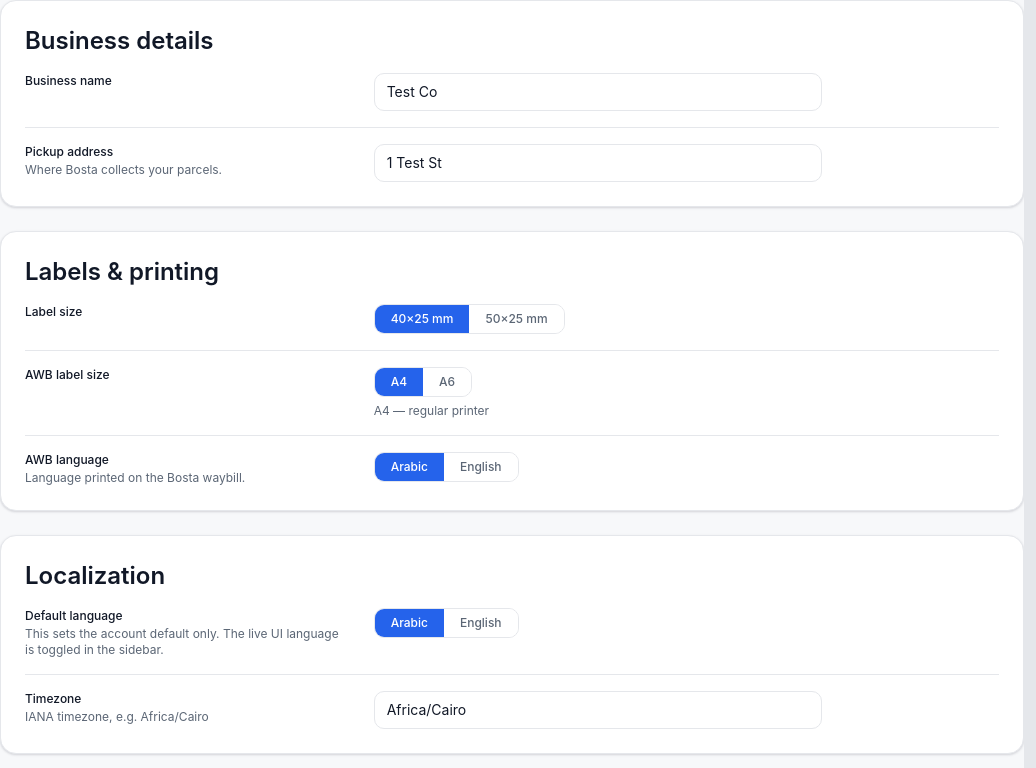
it: BusinessTab — Save fan-out › bt3 — awb leg rejects while tenant leg succeeds: independent per-section outcomes
The width and height of the screenshot is (1036, 768).
Replace the text in the field named "Business name" in the row of "Business name" with "Renamed Co" at (598, 92), box [374,73,822,111]
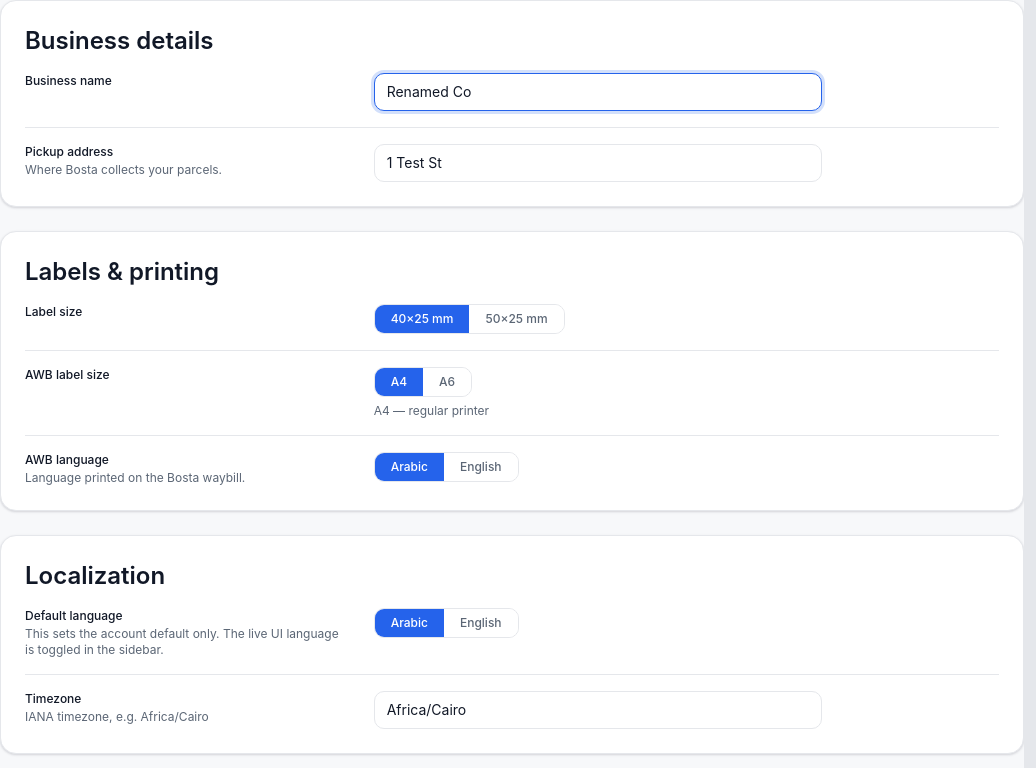
Click the button with test id "awbLang-en" at (481, 467), box [444,453,518,481]
(page scrolled)
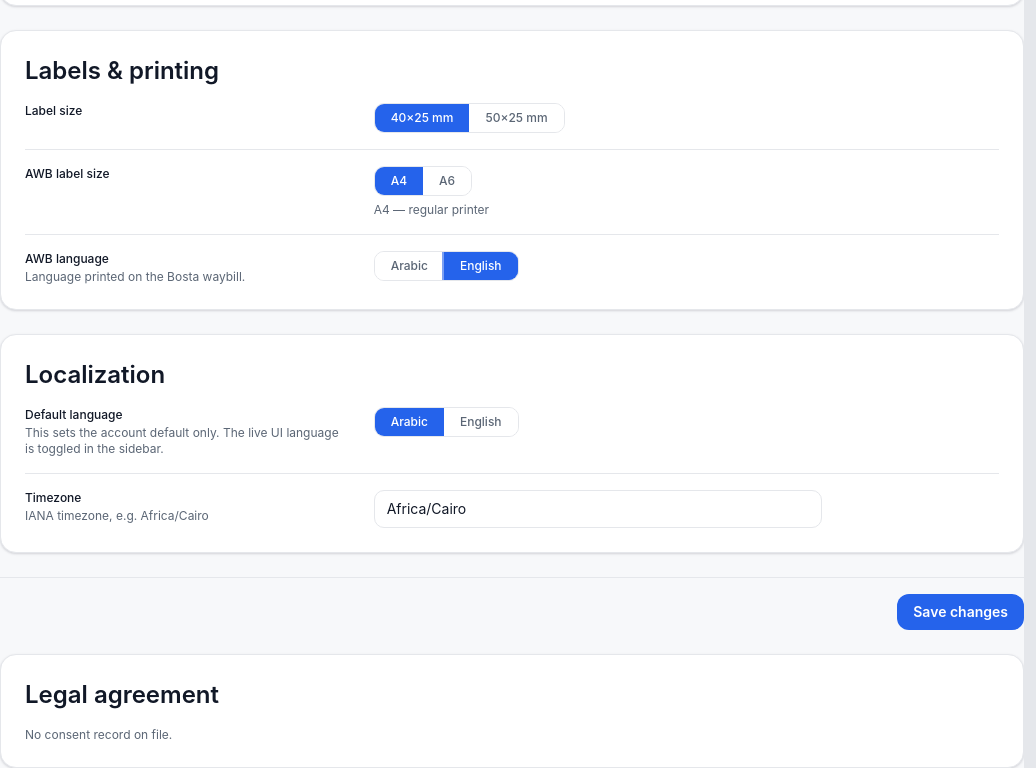
Click the button with test id "business-save" at (961, 612), box [897,594,1024,630]
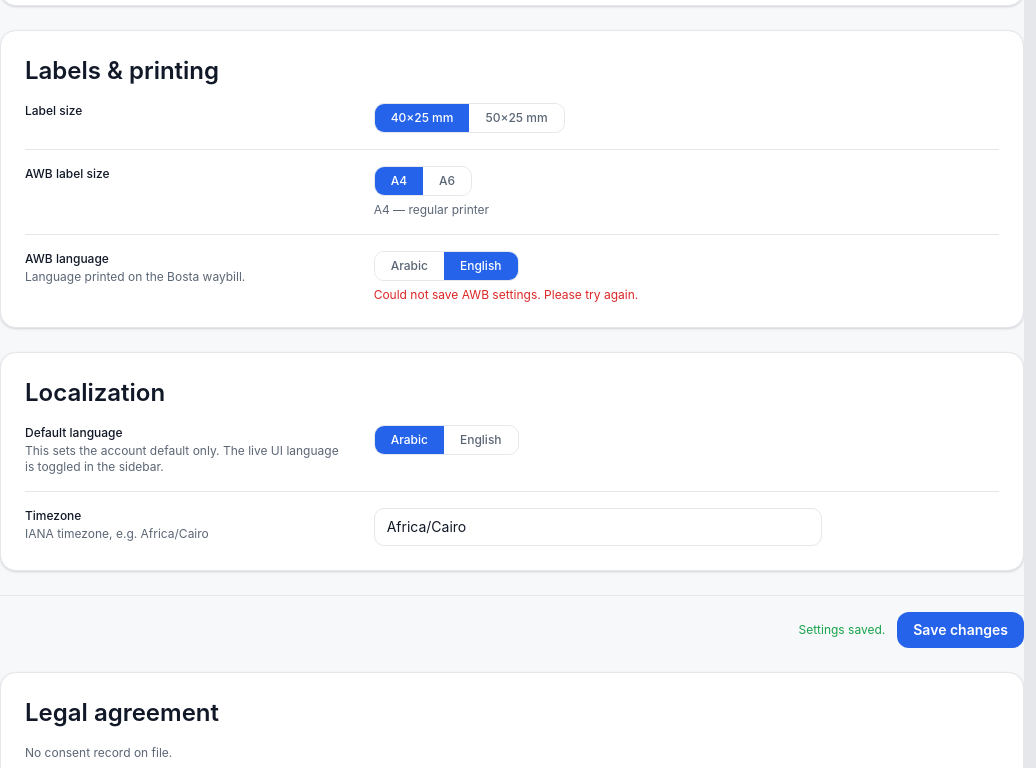
Now the button with test id "business-save" is enabled, box [897,612,1024,648]
Now the message "Settings saved." is shown, box [798,622,885,638]
Now the message "Could not save AWB settings. Please try again." is shown, box [374,287,638,302]
